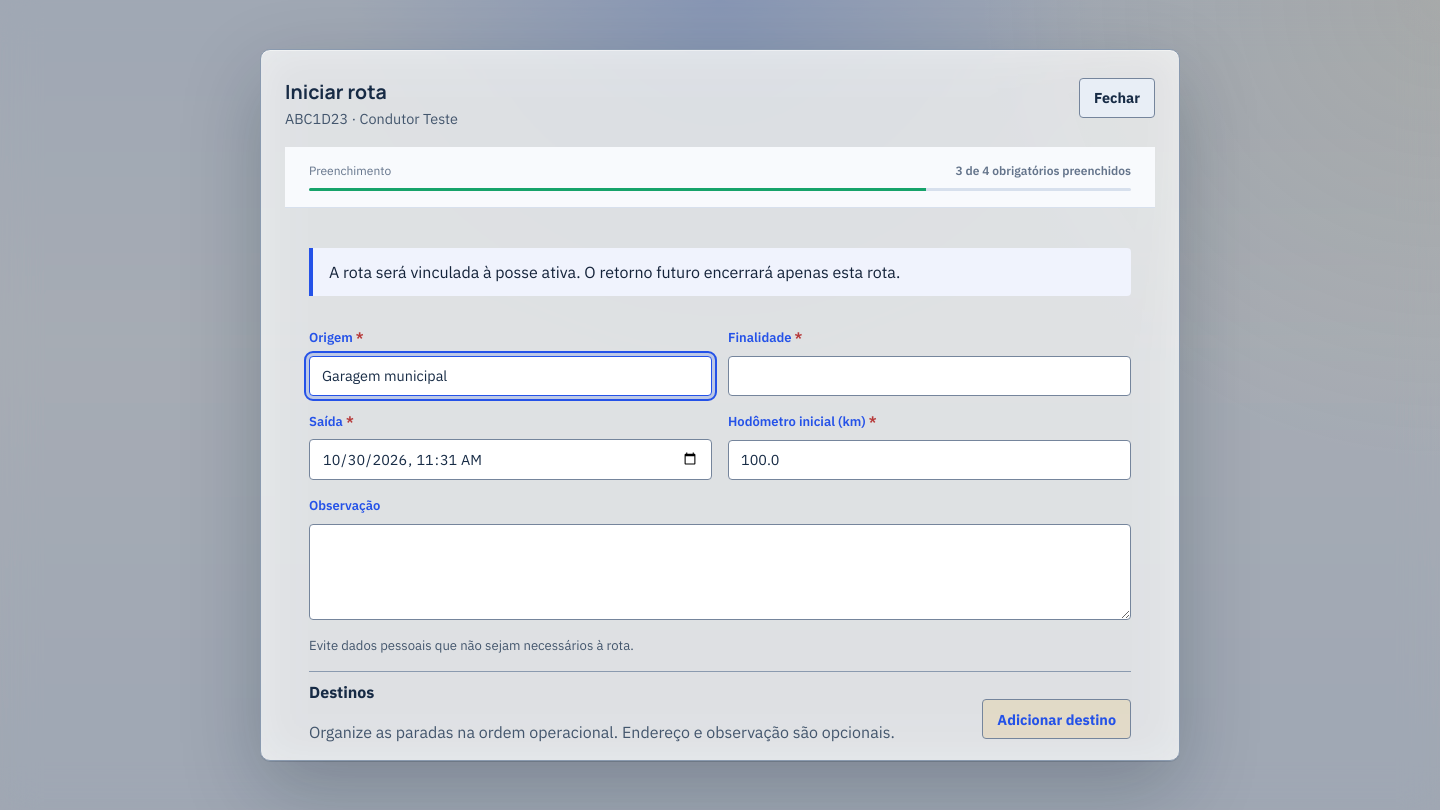
PossessionTripsModal › exibe a validação 422 devolvida pelo contrato ao iniciar rota
Type "Entrega de documentos" into the field labelled "Finalidade" at (930, 376), box left=728, top=356, right=1131, bottom=396
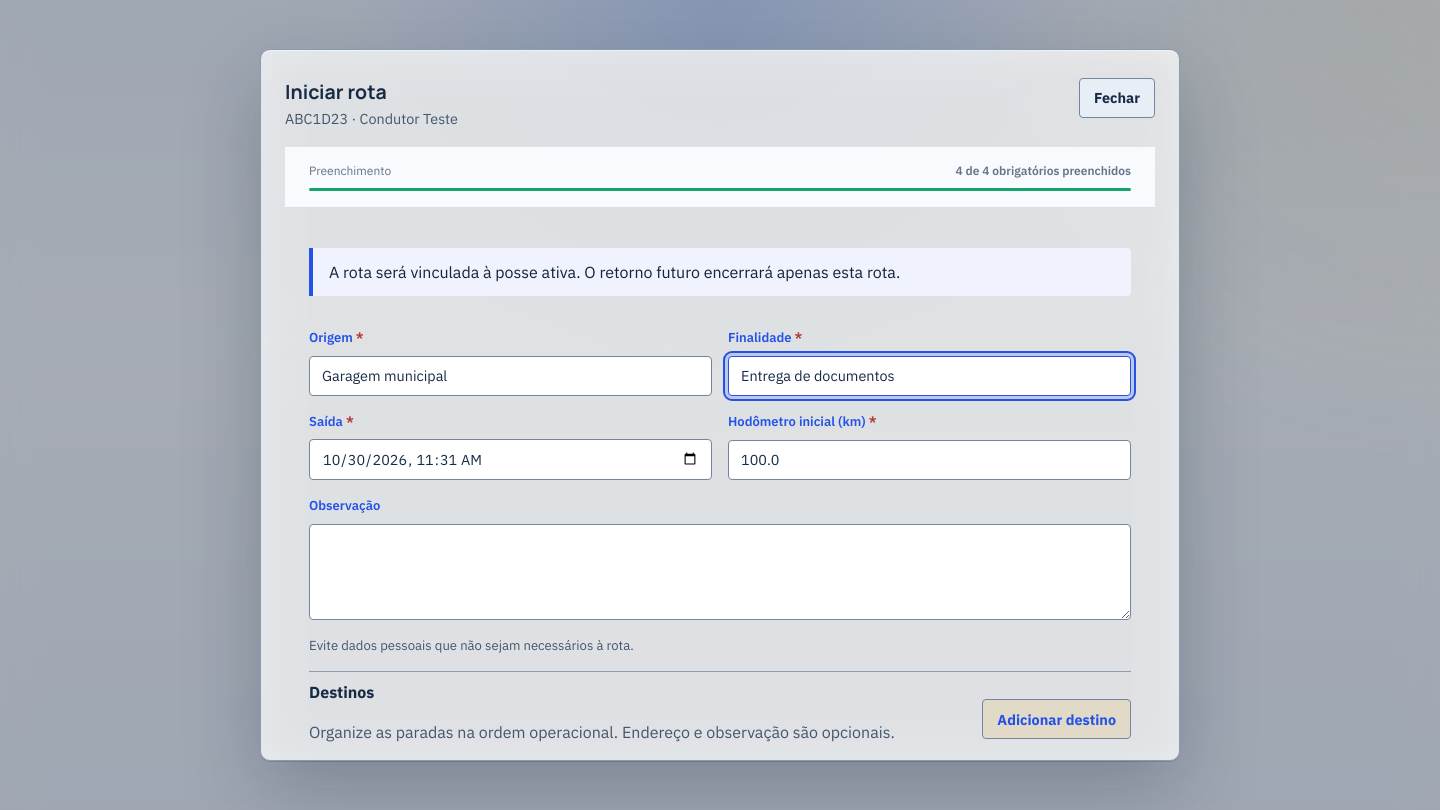
Replace the text in the number field labelled "Hodômetro inicial (km)" with "100" at (930, 460), box left=728, top=440, right=1131, bottom=480
(page scrolled)
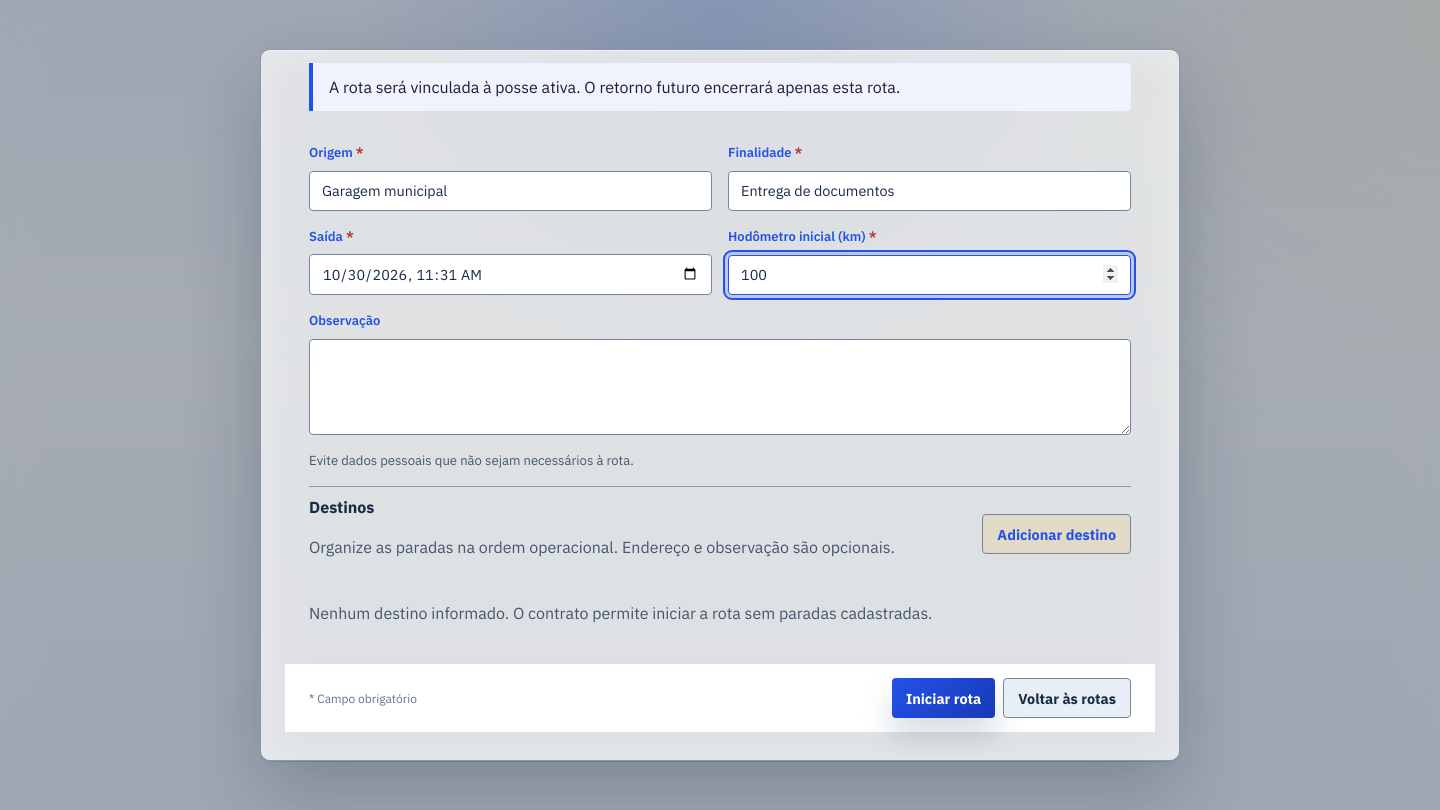
Click the button "Iniciar rota" at (944, 698), box left=892, top=678, right=995, bottom=718
(page scrolled)
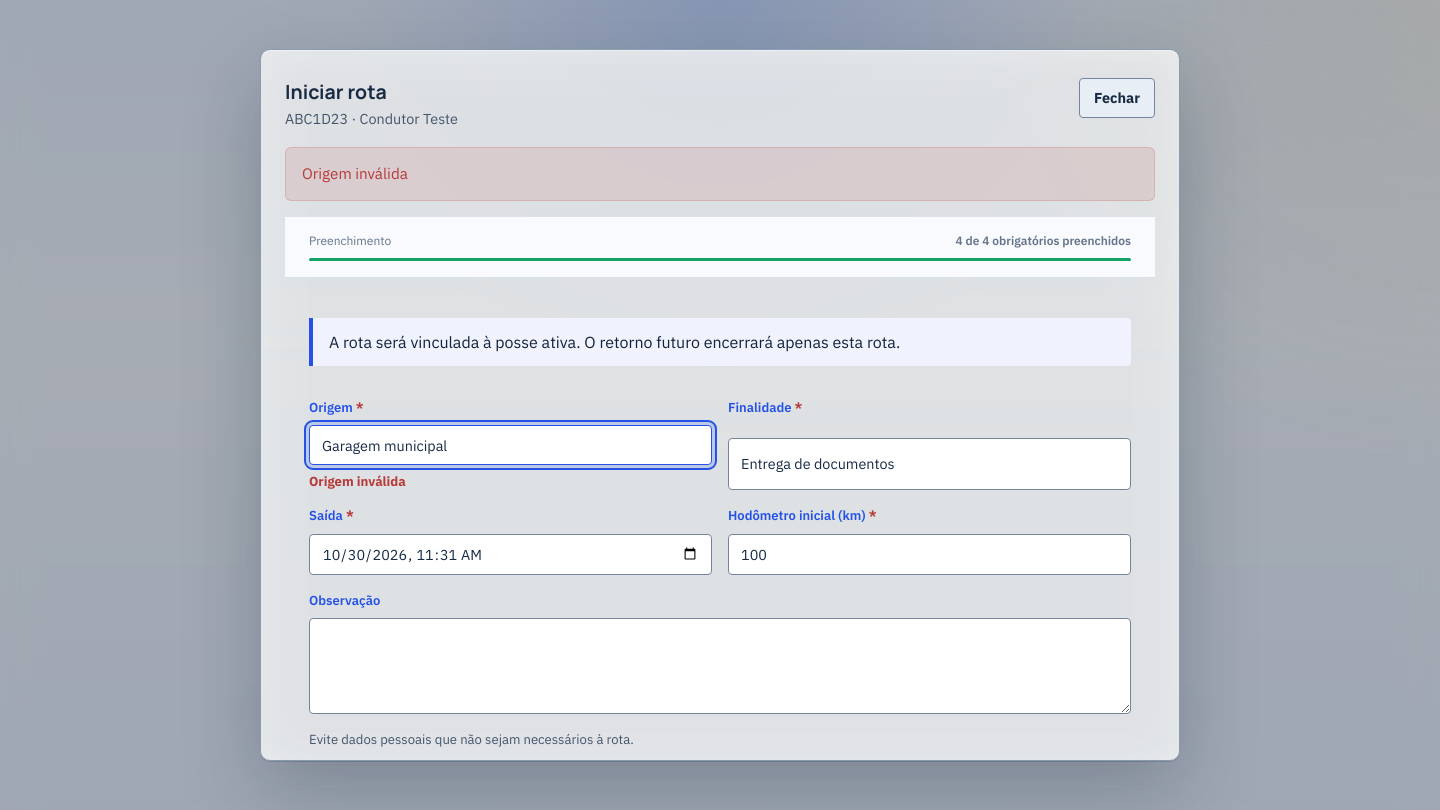
Check: the message reads "Origem inválida", box left=302, top=163, right=408, bottom=183
